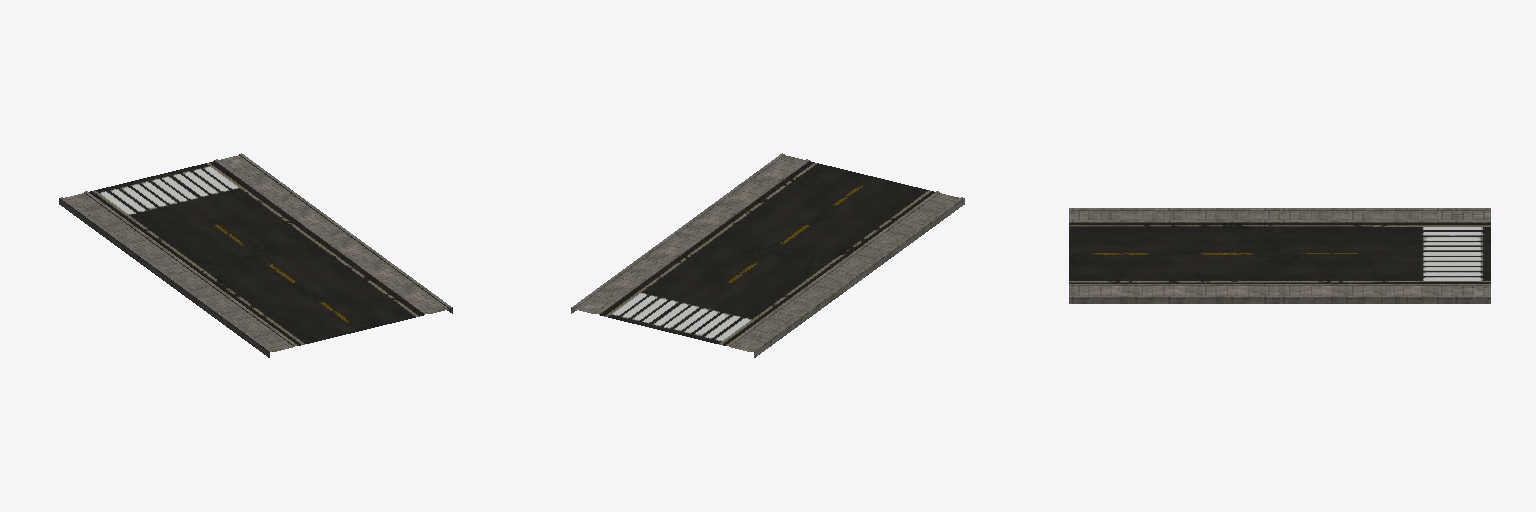
The picture shows the model from 3 angles: view 1: azimuth 30°, elevation 25°; view 2: azimuth 150°, elevation 25°; view 3: azimuth 270°, elevation 25°; orthographic projection.
Parts seen in each view (by area): view 1: 7_Road-Crosswalk; view 2: 7_Road-Crosswalk; view 3: 7_Road-Crosswalk.
Boxes of the visible parts, x1=… form: 7_Road-Crosswalk: x1=59, y1=153, x2=452, y2=357; 7_Road-Crosswalk: x1=571, y1=153, x2=964, y2=357; 7_Road-Crosswalk: x1=1069, y1=208, x2=1490, y2=303.
Bounding box in the file's own units: 0.6196 × 0.0219 × 1.24.
Materials: 1 (1 with a texture image).